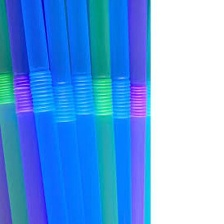drinking_straw: (126, 0, 150, 224)
